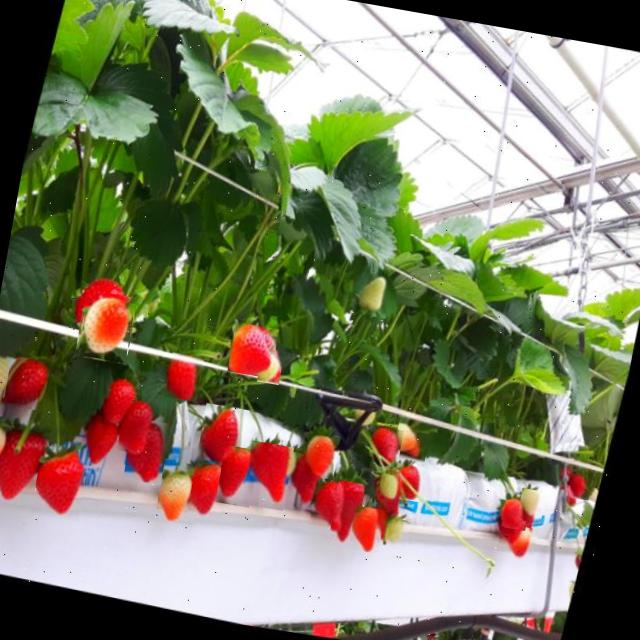ripe: (30, 446, 90, 522), (0, 426, 50, 509), (196, 402, 250, 472), (241, 440, 293, 510), (123, 418, 171, 484), (227, 322, 279, 379), (78, 408, 124, 469), (215, 444, 258, 508), (307, 480, 354, 538), (2, 355, 50, 411), (187, 460, 230, 520), (116, 399, 159, 456), (328, 480, 365, 546), (285, 456, 326, 511), (100, 377, 138, 429), (164, 352, 203, 402), (348, 505, 385, 554), (367, 424, 403, 468), (396, 463, 428, 502), (496, 515, 526, 554), (500, 499, 530, 531), (568, 476, 592, 500), (565, 493, 582, 514)
unripe: (74, 289, 138, 365), (77, 296, 135, 363), (154, 464, 202, 526), (301, 433, 340, 480), (393, 416, 432, 462), (354, 272, 392, 318), (0, 412, 14, 493), (509, 526, 538, 564), (516, 488, 546, 524), (256, 348, 284, 384), (274, 448, 300, 484), (386, 517, 410, 551), (377, 473, 402, 503), (0, 350, 15, 398)
